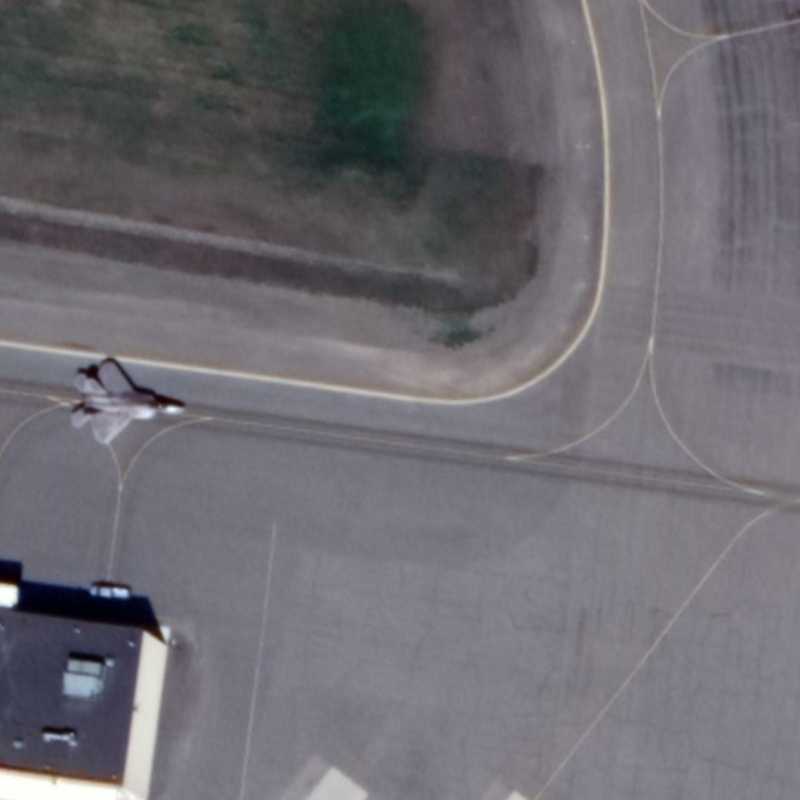A15: (65, 350, 185, 454)
